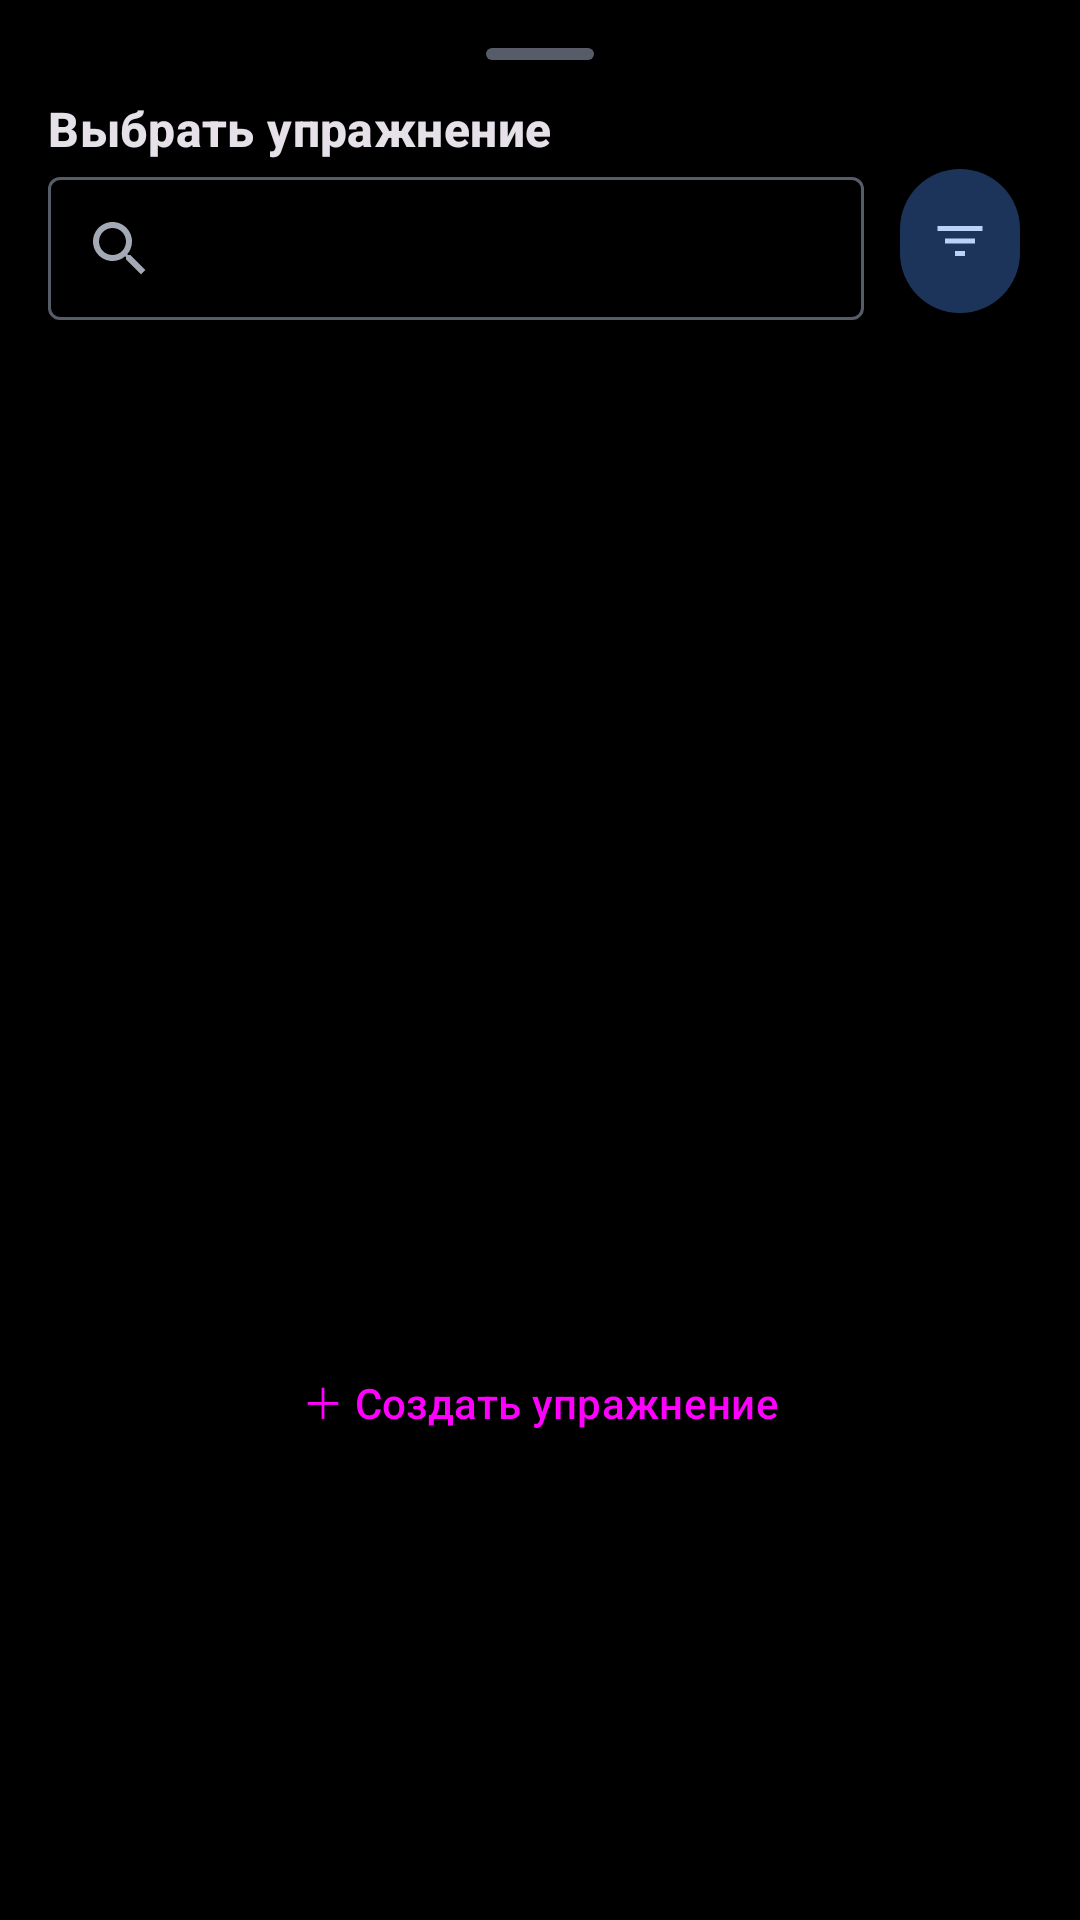

Icon click points for this 1080w x 1920h phone screenshot, format (x=x, y=y):
Фильтр по категории: (x=960, y=241)
